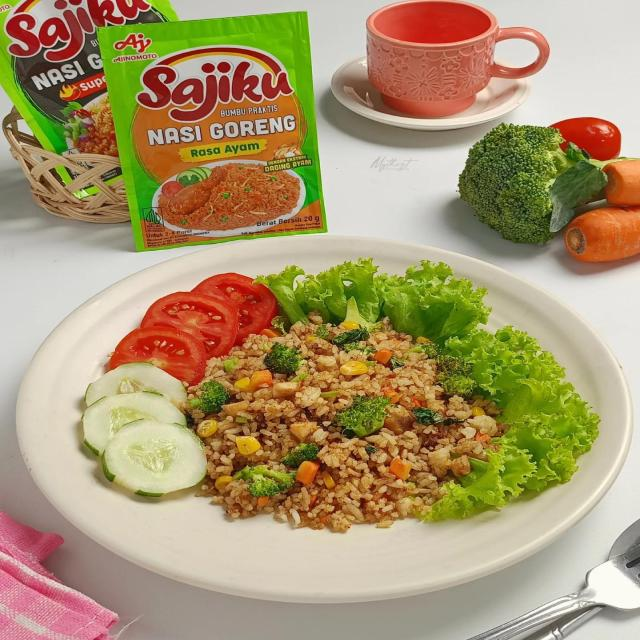Nasi Goreng: (202, 321, 500, 520)
